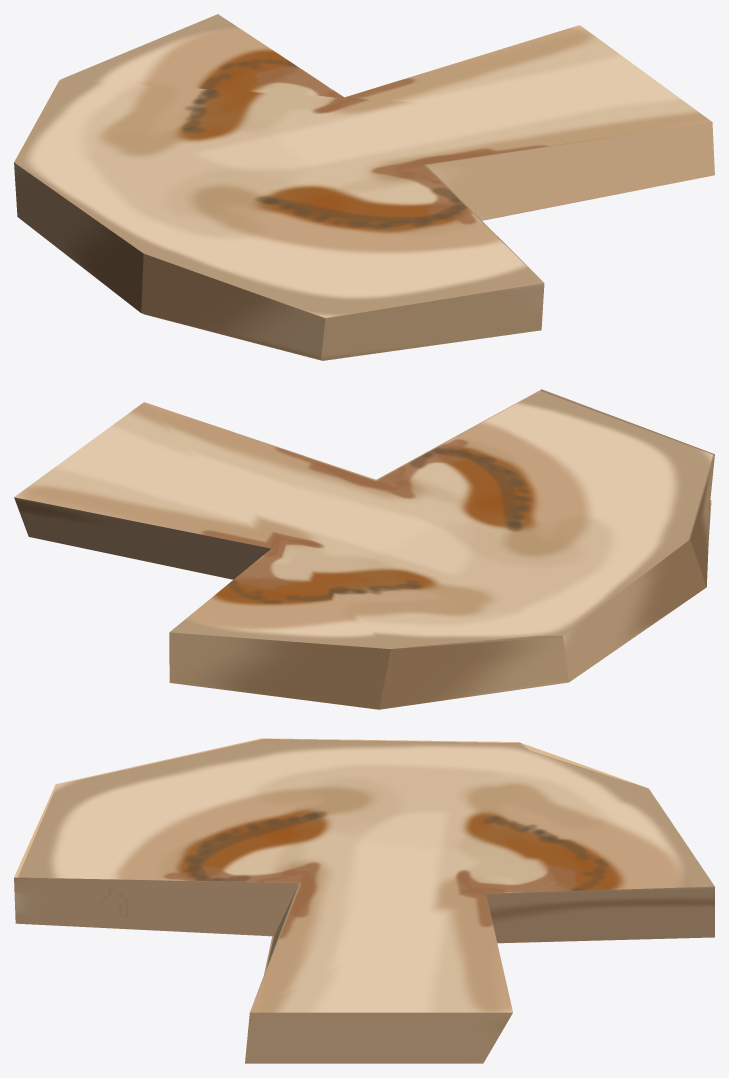
The model's file is mushroom.fbx.
3 views of the same model, one above another, from view 1: azimuth 30°, elevation 25°; view 2: azimuth 150°, elevation 25°; view 3: azimuth 270°, elevation 25° (orthographic). The views are drawn at different scales.
Visible parts, largest first — view 1: Cube; view 2: Cube; view 3: Cube.
Part boxes in pixels (left/top/right/bottom): Cube: left=14, top=14, right=714, bottom=360; Cube: left=14, top=389, right=714, bottom=709; Cube: left=14, top=738, right=714, bottom=1063.
Bounding box in the file's own units: 46.24 × 4.48 × 49.39.
